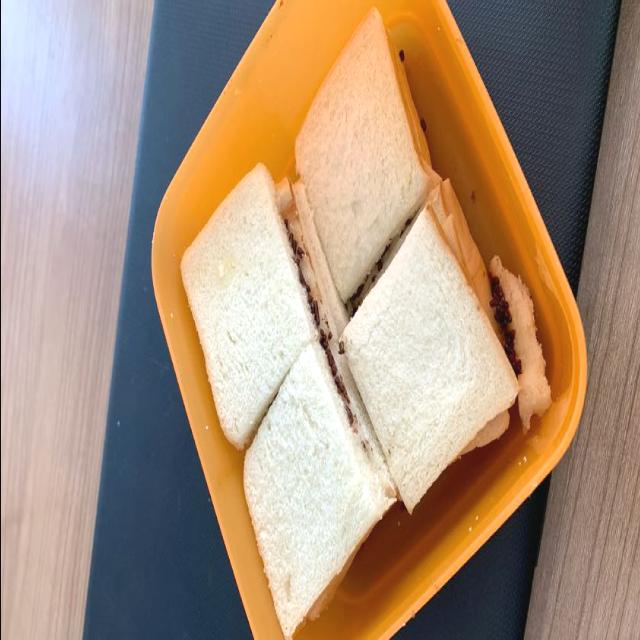roti tawar: (343, 203, 521, 513), (233, 350, 389, 640), (296, 12, 430, 300), (182, 167, 311, 451)
